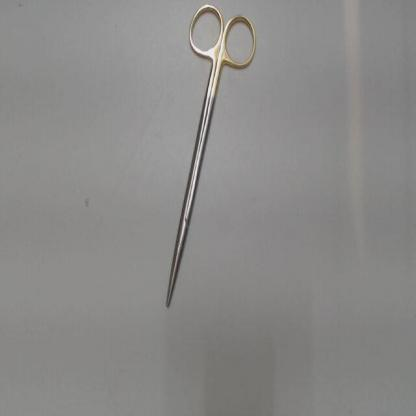7 Metzenbaum Scissors: (163, 0, 261, 313)
